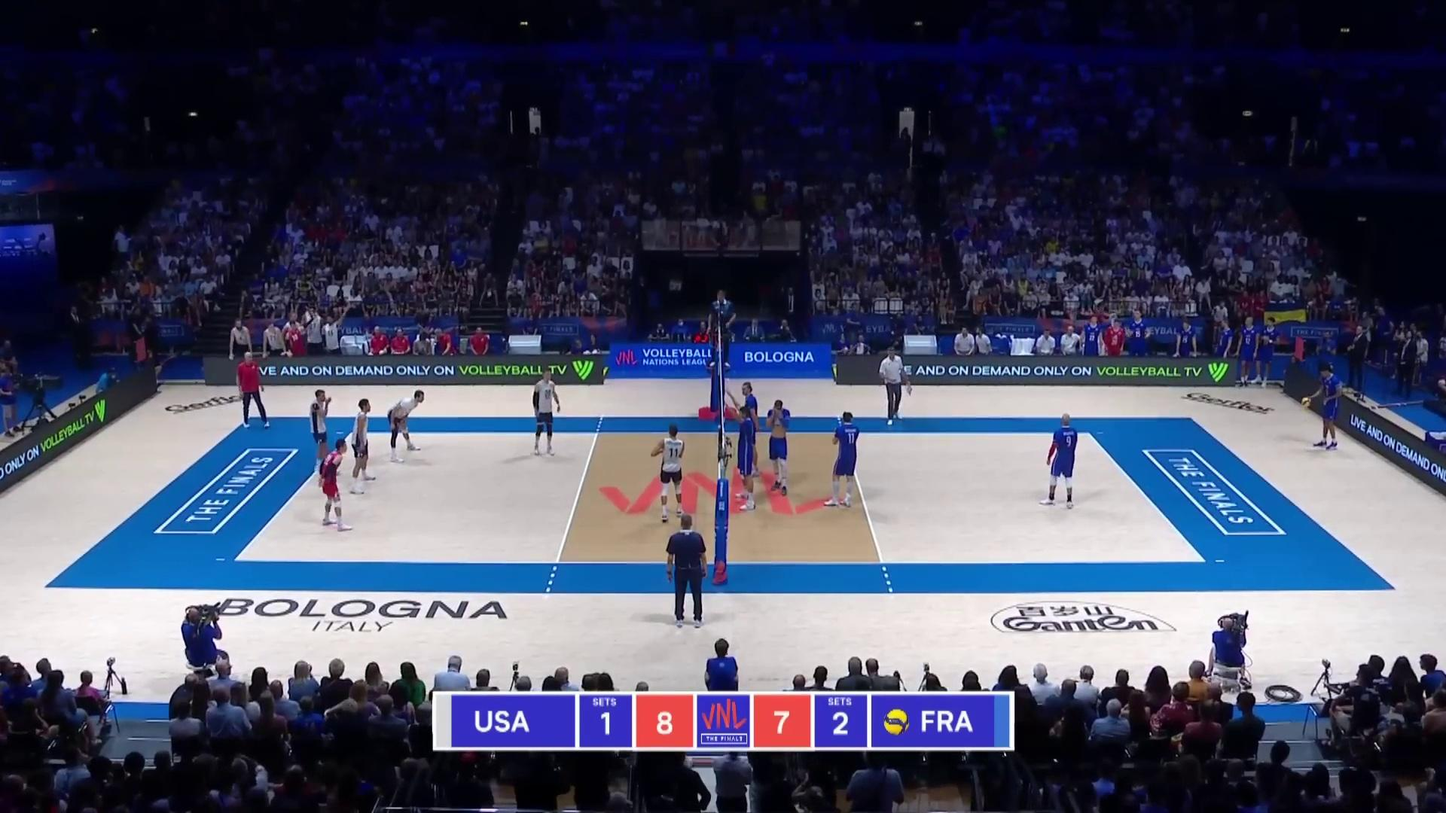player: (825, 410, 860, 508), (648, 428, 684, 521), (1043, 413, 1078, 507), (318, 440, 349, 535), (1306, 364, 1339, 451), (388, 390, 426, 463), (533, 370, 562, 456), (733, 383, 760, 472), (350, 401, 377, 489), (769, 403, 796, 491), (734, 404, 755, 511), (311, 389, 333, 470)
refree: (664, 515, 707, 626), (710, 290, 734, 365)
